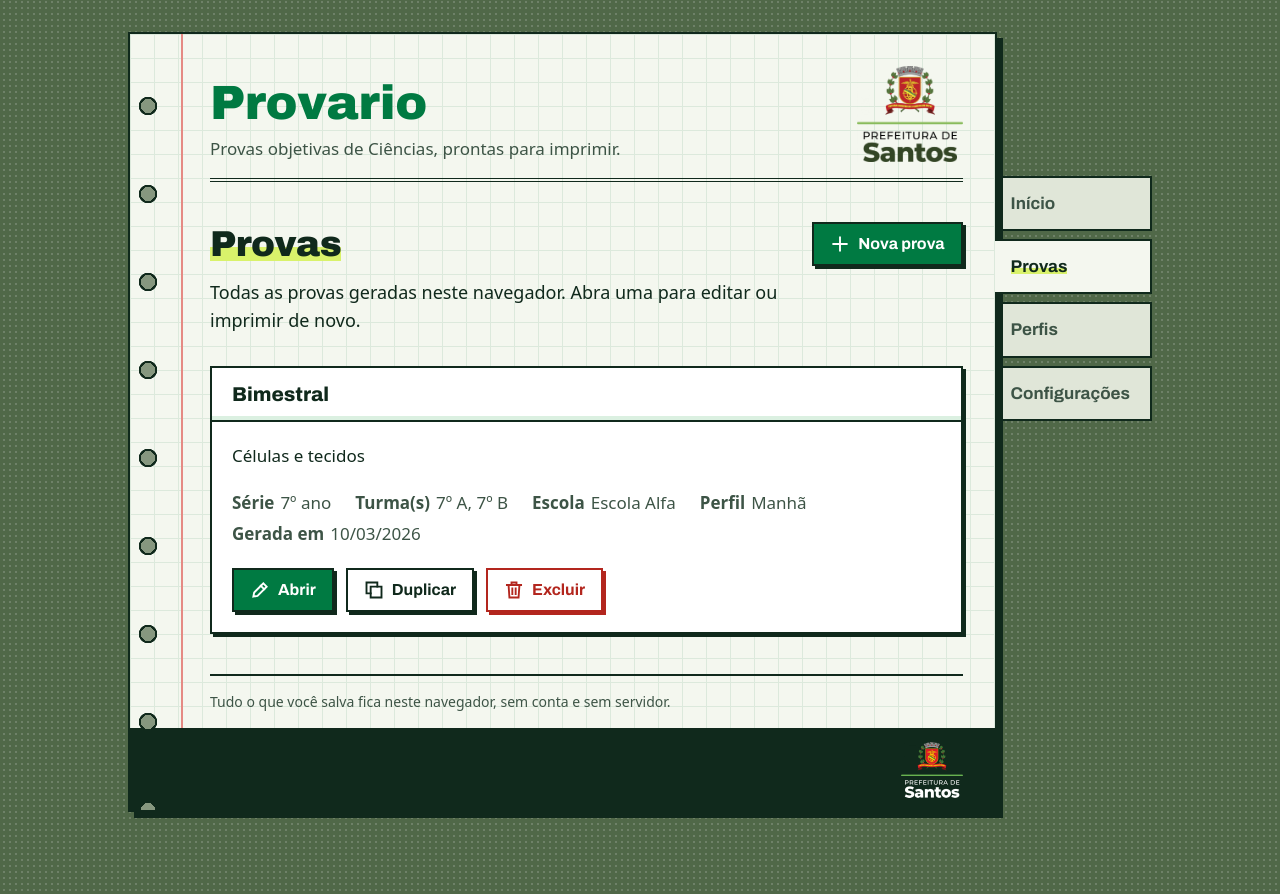
Test: Provas — abrir › Quando clica em Abrir, vai para a prova, onde pode editar e reimprimir
Click the link with aria-label "Abrir Bimestral": click(283, 590) x1=232 y1=568 x2=334 y2=612
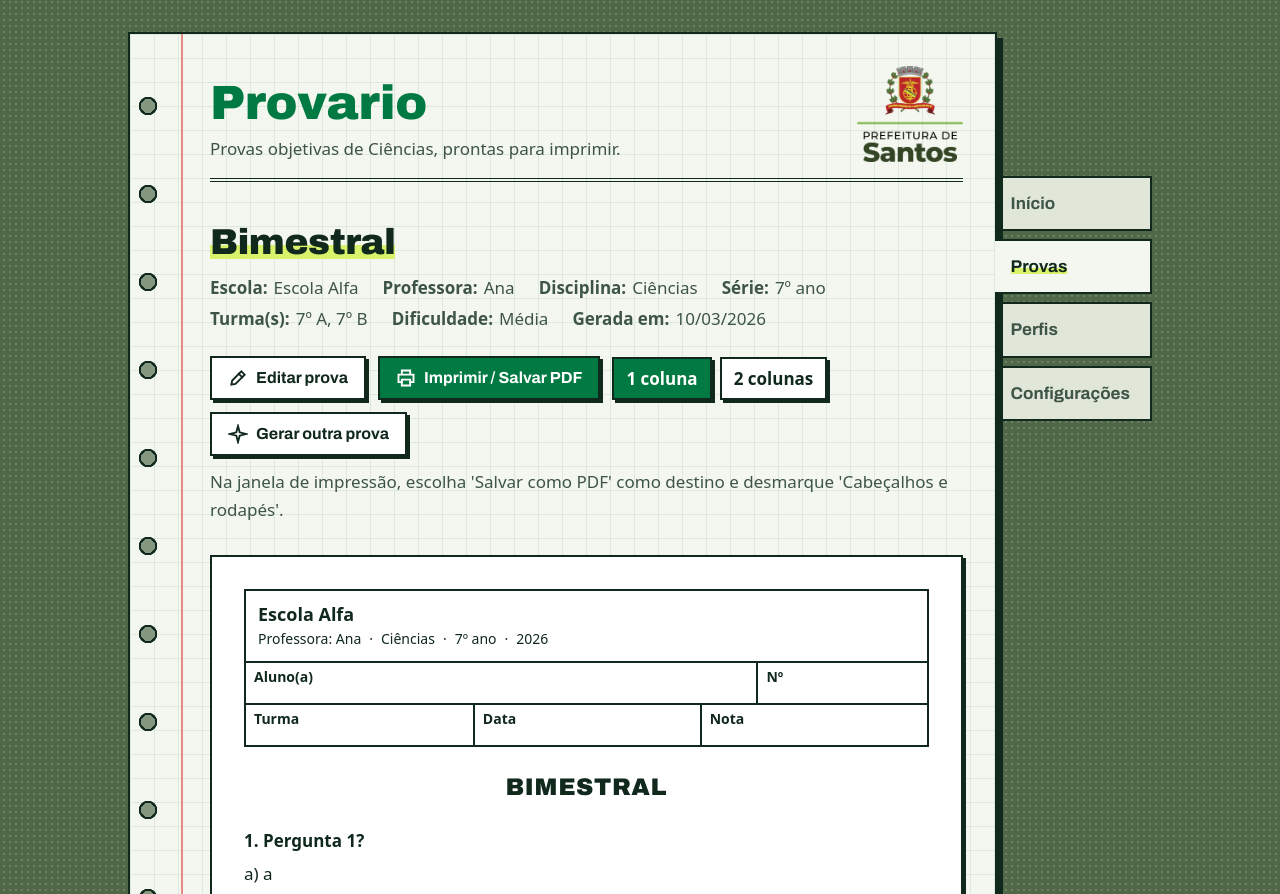
Expected: the button "Editar prova" is enabled, x1=210 y1=356 x2=366 y2=400
Expected: the 1st heading "Bimestral" is shown, x1=210 y1=222 x2=395 y2=262
